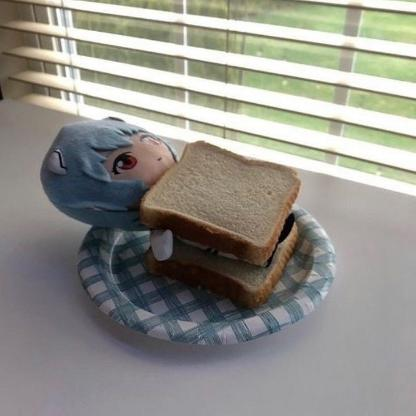rei-plush: (28, 100, 186, 238)
